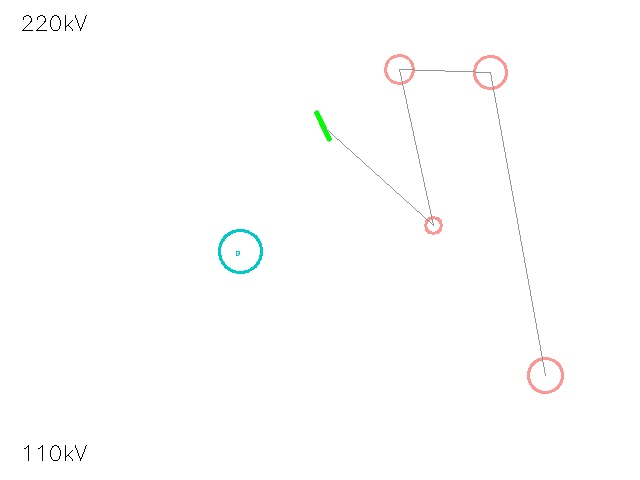busbar: (304, 107, 342, 145)
feeder_terminal: (416, 208, 450, 242)
generator: (219, 230, 261, 272)
load_break_switch: (511, 341, 579, 409), (458, 40, 522, 104), (370, 40, 428, 98)
